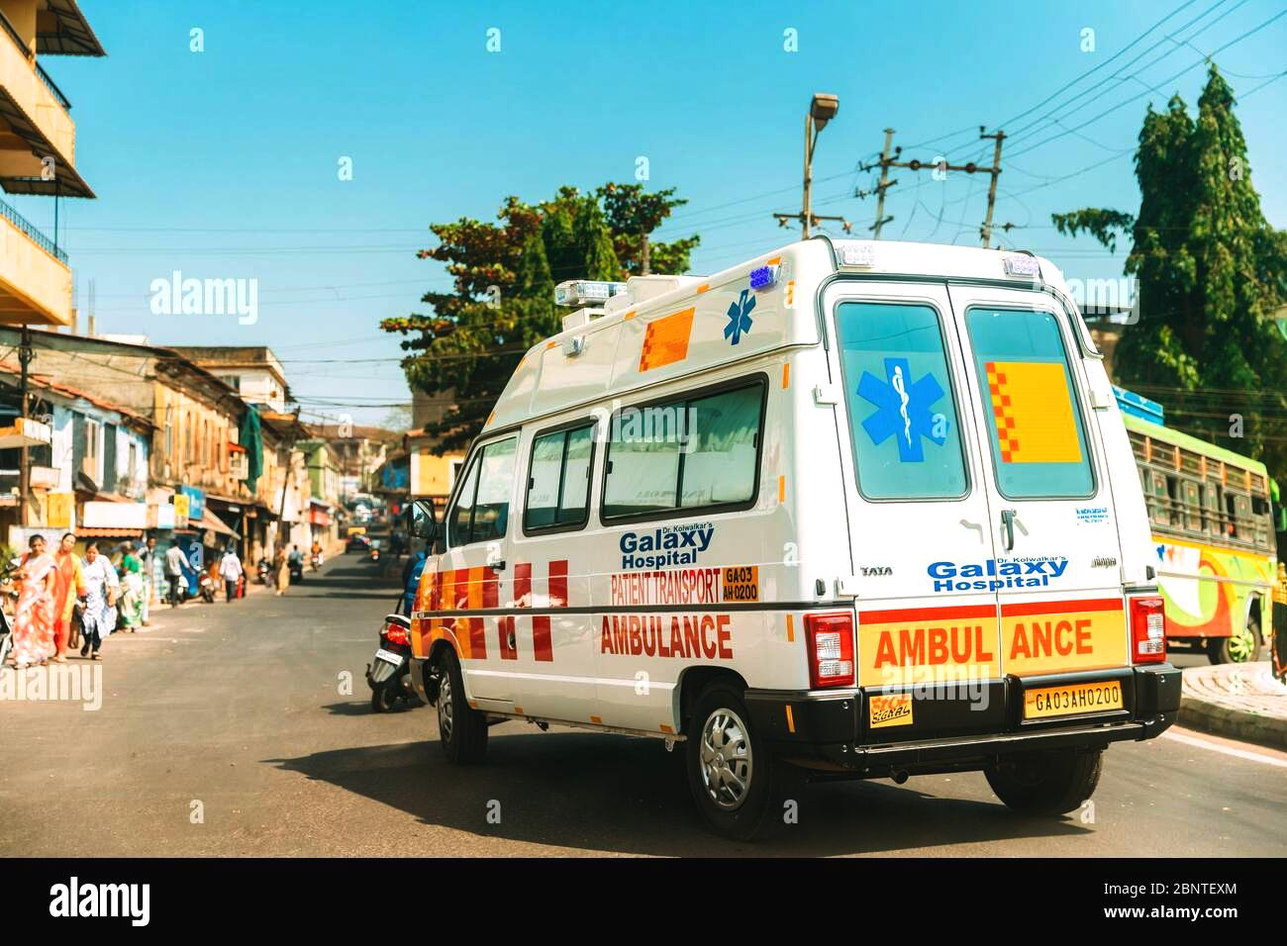ambulance: (400, 242, 1203, 794)
